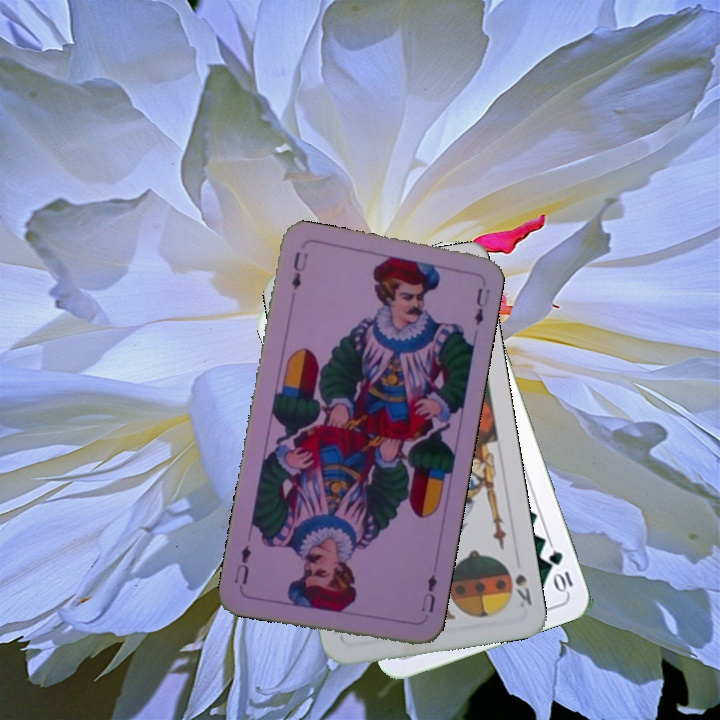EU: (287, 247, 311, 293), (417, 570, 440, 616)
G10: (544, 546, 576, 595)
SK: (511, 570, 534, 610)
